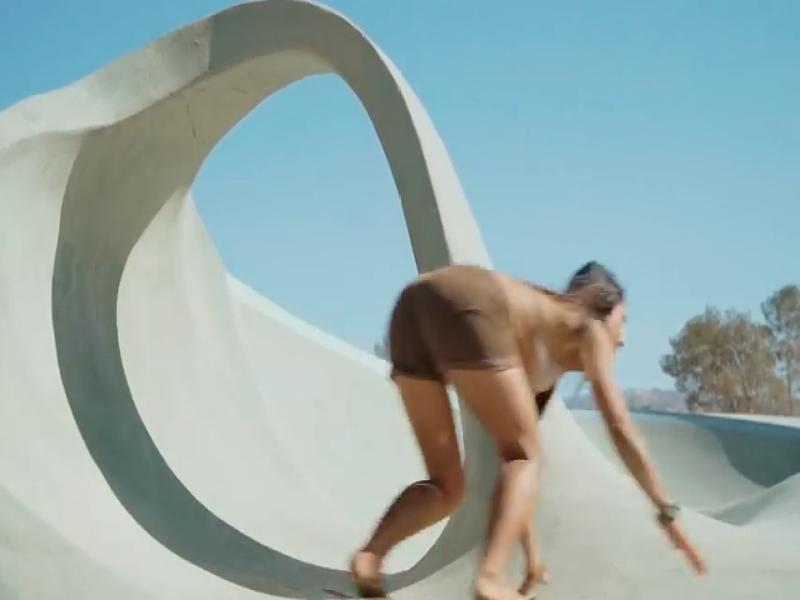person: (353, 263, 705, 598)
